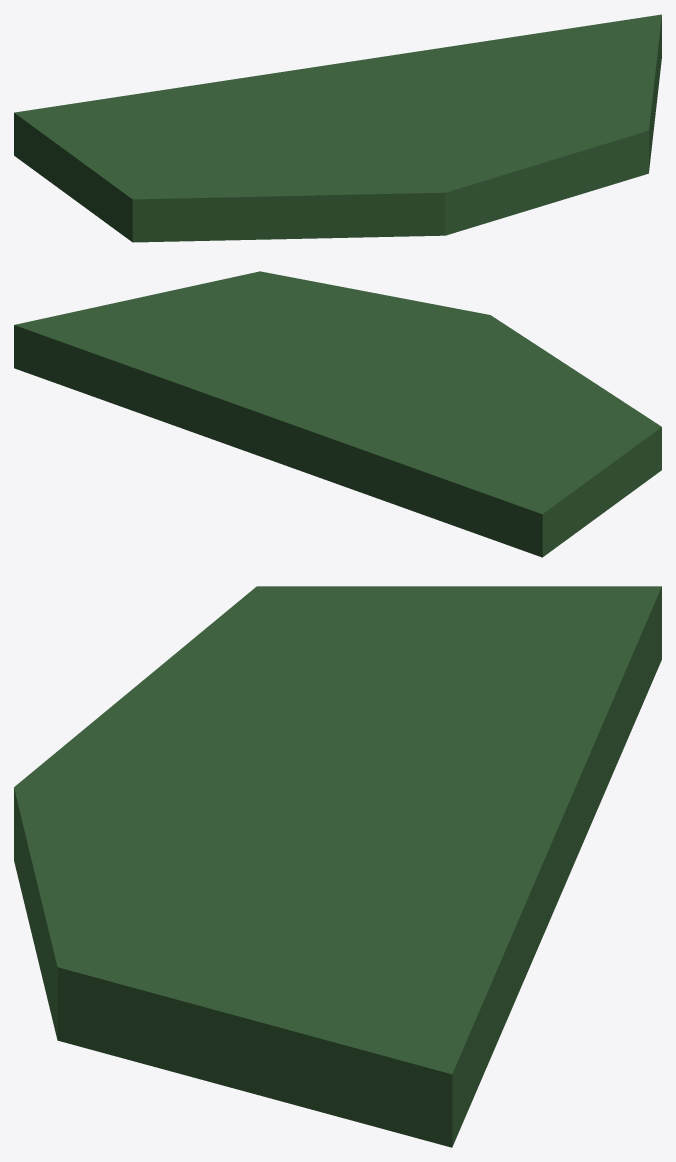
File: x_proval_00_15_1_rmstrd.fbx
The picture shows the model from 3 angles, top to bottom: view 1: azimuth 30°, elevation 25°; view 2: azimuth 150°, elevation 25°; view 3: azimuth 270°, elevation 25°; orthographic projection. The views are drawn at different scales.
Visible parts, largest first — view 1: x_proval_00_15_1_rmstrd1; view 2: x_proval_00_15_1_rmstrd1; view 3: x_proval_00_15_1_rmstrd1.
Part boxes in pixels (x1,y1,x2,y2): x_proval_00_15_1_rmstrd1: [14, 14, 661, 242]; x_proval_00_15_1_rmstrd1: [14, 271, 661, 557]; x_proval_00_15_1_rmstrd1: [14, 586, 661, 1147].
Bounding box in the file's own units: 2.85 × 0.2 × 1.6.
